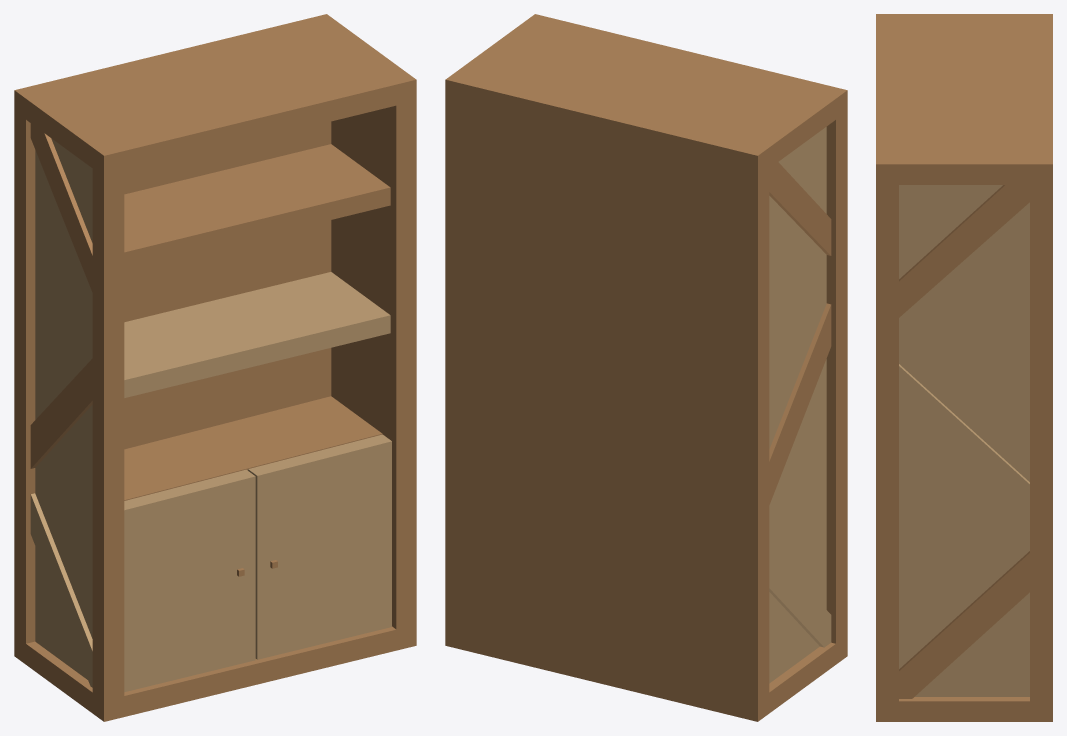
Rendered from shelf_3.fbx.
3 views of the same model, side by side, from view 1: azimuth 30°, elevation 25°; view 2: azimuth 150°, elevation 25°; view 3: azimuth 270°, elevation 25° (orthographic).
Parts seen in each view (by area): view 1: shelf_3; view 2: shelf_3; view 3: shelf_3.
Boxes of the visible parts, <box> form: shelf_3: <box>14,14,416,721</box>; shelf_3: <box>445,14,847,721</box>; shelf_3: <box>876,14,1052,721</box>.
Bounding box in the file's own units: 171 × 296 × 84.93.
